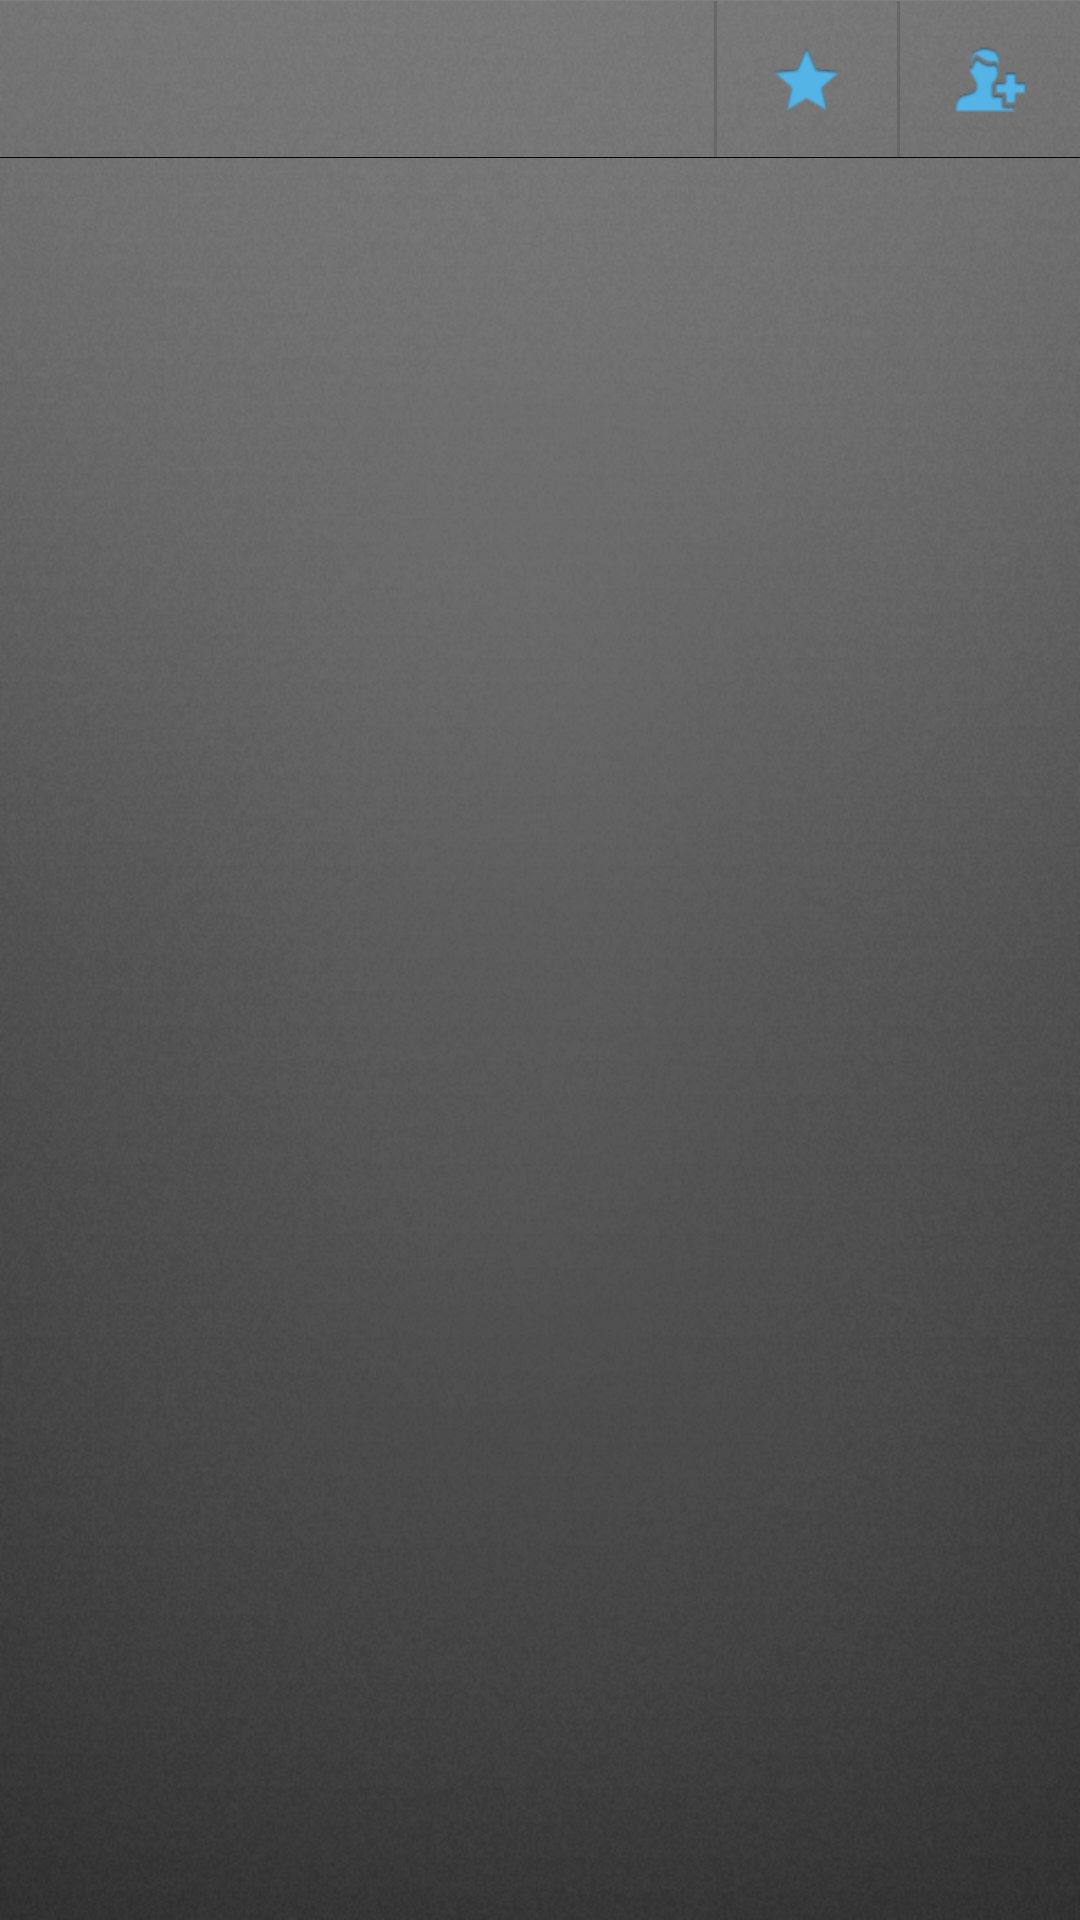

Icon bounding boxes for this 1080 × 1920 phone screenshot, format (x1, y1, x2, y2):
add contact: (955, 47, 1025, 111)
contact favorite: (775, 48, 838, 109)
